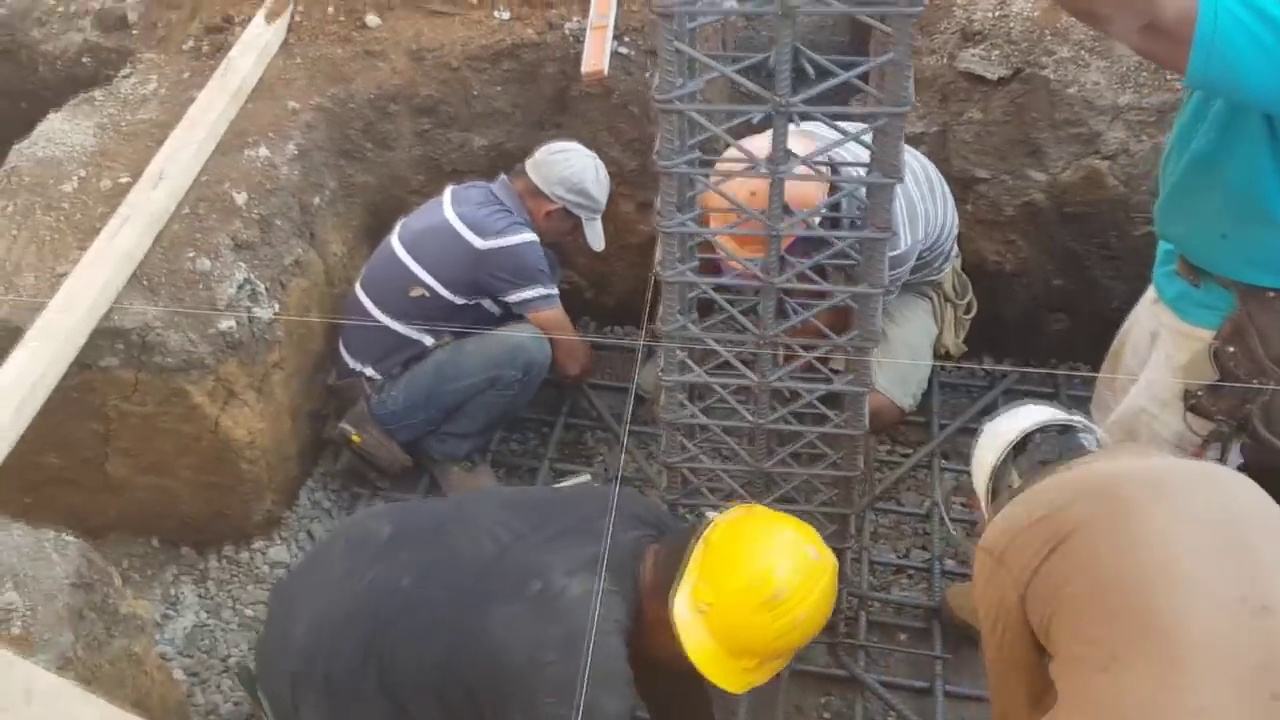helmet: (671, 507, 846, 683), (701, 127, 843, 257), (977, 398, 1104, 530)
helmet-off: (513, 142, 615, 262)
helmet-on: (615, 501, 841, 704), (966, 401, 1111, 528)
person: (242, 470, 822, 720), (946, 394, 1279, 713), (353, 123, 616, 486), (1077, 0, 1280, 462), (704, 114, 976, 426)
